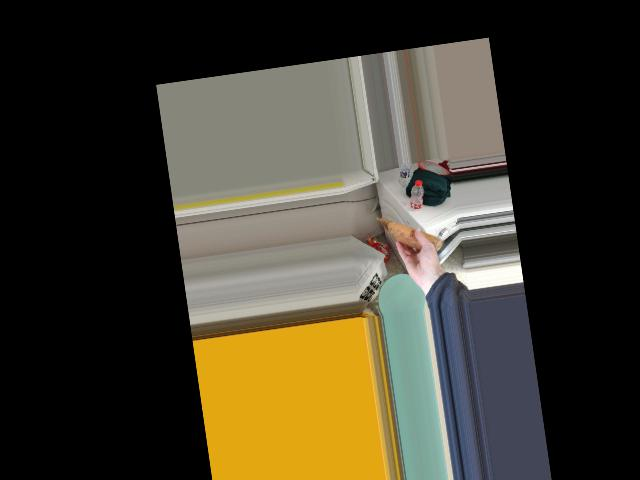sweet_potato: (391, 215, 429, 252)
